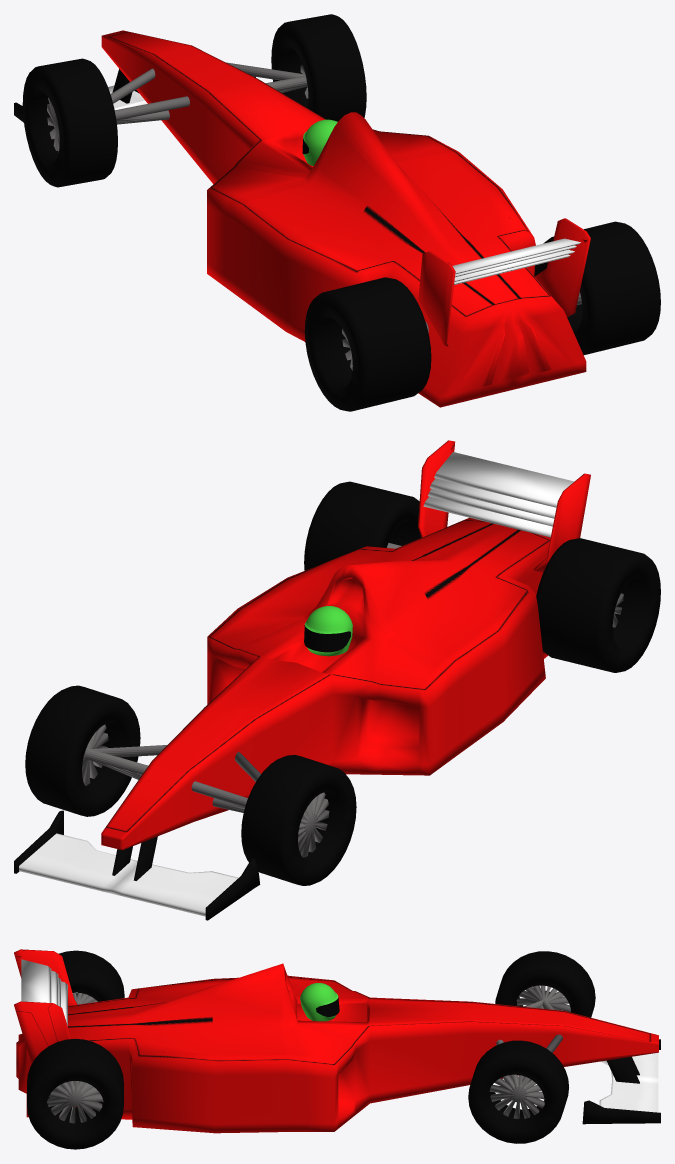
File: F1MODELRight.fbx
3 renders of one model, top to bottom at view 1: azimuth 30°, elevation 25°; view 2: azimuth 150°, elevation 25°; view 3: azimuth 270°, elevation 25°, orthographic. The views are drawn at different scales.
Parts seen in each view (by area): view 1: Chassis, RearWheels, Front_SteerRIGHT, RearSpoilerSupport, Wheel_Rim_and_Axe_R, RearSpoilerBlades, Helmet; view 2: Chassis, Front_SteerRIGHT, RearWheels, RearSpoilerBlades, Front_Spoiler, Wheel_Rim_and_Axe_R, RearSpoilerSupport, Front_SpoilerSupports, Helmet, Visor; view 3: Chassis, Front_SteerRIGHT, RearWheels, RearSpoilerSupport, Wheel_Rim_and_Axe_R, Front_Spoiler, Front_SpoilerSupports, Wheel_Rim_and_Axel, RearSpoilerBlades, Helmet.
Boxes of the visible parts, x1,y1,x2,y2 form: Chassis: (101,30,586,407); RearWheels: (304,221,660,411); Front_SteerRIGHT: (22,14,366,187); RearSpoilerSupport: (418,218,590,347); Wheel_Rim_and_Axe_R: (47,62,308,152); RearSpoilerBlades: (452,238,580,284); Helmet: (303,119,337,166); Chassis: (101,517,550,850); Front_SteerRIGHT: (25,685,356,885); RearWheels: (304,481,660,672); RearSpoilerBlades: (423,452,574,537); Front_Spoiler: (19,833,238,916); Wheel_Rim_and_Axe_R: (82,724,329,857); RearSpoilerSupport: (418,440,590,572); Front_SpoilerSupports: (14,810,260,920); Helmet: (304,606,352,656); Visor: (304,625,350,652); Chassis: (16,963,658,1133); Front_SteerRIGHT: (468,951,595,1143); RearWheels: (27,950,124,1149); RearSpoilerSupport: (14,949,77,1063); Wheel_Rim_and_Axe_R: (489,985,570,1119); Front_Spoiler: (599,1053,658,1112); Front_SpoilerSupports: (582,1039,660,1124); Wheel_Rim_and_Axel: (47,992,103,1123); RearSpoilerBlades: (21,959,67,1026); Helmet: (300,983,338,1021).
Size of the model in its own units: 5.64 by 2.98 by 13.53.
Materials: 9 (9 with a texture image).
